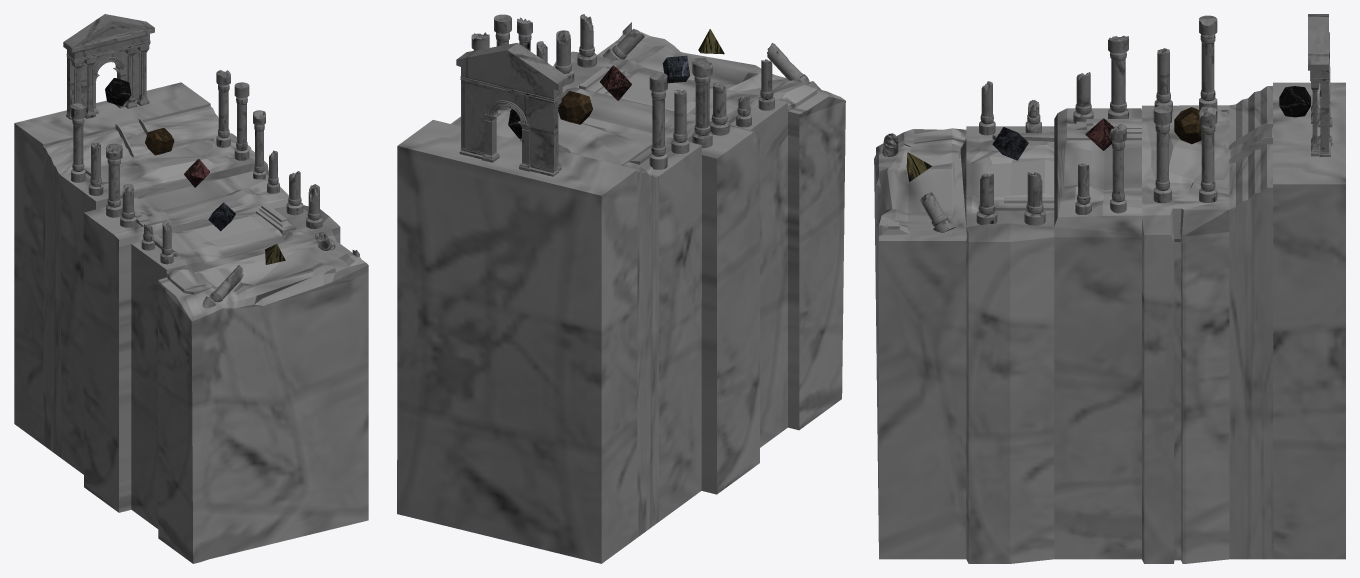
Rendered from [grft] 맵선택창.fbx.
3 views of the same model, side by side, from view 1: azimuth 30°, elevation 25°; view 2: azimuth 150°, elevation 25°; view 3: azimuth 270°, elevation 25° (orthographic). The views are drawn at different scales.
Parts seen in each view (by area): view 1: base, door.003, door.002, pillar.003, door, pillar.005, pillar.011, pillar.010, door.001, pillar.009, pillar.013, Stage_4 (+7 smaller); view 2: base, door.002, door.003, pillar.003, pillar.005, door.004, pillar.004, Stage_4, pillar.002, pillar.006, pillar.013, pillar.007 (+4 smaller); view 3: base, pillar.011, door.003, pillar.010, pillar.005, pillar.003, pillar.009, pillar.007, Stage_5, pillar.006, pillar.004, Stage_4 (+6 smaller).
Boxes of the visible parts, box(x1,y1,x2,y2) form: base: box(14, 82, 368, 563); door.003: box(63, 14, 154, 62); door.002: box(66, 49, 139, 119); pillar.003: box(106, 143, 122, 217); door: box(84, 48, 137, 118); pillar.005: box(71, 103, 85, 182); pillar.011: box(216, 70, 230, 147); pillar.010: box(234, 82, 249, 160); door.001: box(71, 45, 149, 119); pillar.009: box(253, 110, 265, 179); pillar.013: box(202, 265, 243, 308); Stage_4: box(145, 128, 174, 155); base: box(397, 22, 845, 563); door.002: box(459, 81, 558, 176); door.003: box(456, 43, 568, 103); pillar.003: box(692, 57, 712, 148); pillar.005: box(649, 72, 667, 169); door.004: box(481, 113, 530, 171); pillar.004: box(671, 89, 689, 153); Stage_4: box(558, 91, 592, 124); pillar.002: box(709, 83, 729, 135); pillar.006: box(577, 14, 596, 67); pillar.013: box(767, 43, 820, 89); pillar.007: box(555, 30, 574, 84); base: box(874, 82, 1345, 563); pillar.011: box(1199, 106, 1217, 202); door.003: box(1308, 14, 1329, 83); pillar.010: box(1153, 105, 1171, 203); pillar.005: box(1199, 15, 1217, 109); pillar.003: box(1108, 35, 1128, 118); pillar.009: box(1110, 124, 1126, 213); pillar.007: box(1024, 172, 1045, 225); Stage_5: box(1279, 86, 1310, 117); pillar.006: box(976, 173, 997, 224); pillar.004: box(1154, 48, 1172, 111); Stage_4: box(1174, 107, 1201, 144).
Bounding box in the file's own units: 1545 × 3114 × 2706.
Materials: 7 (7 with a texture image).
